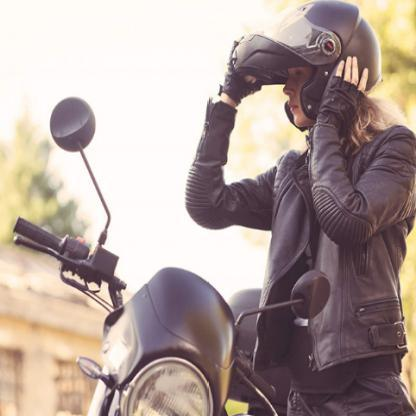helmet: (232, 0, 383, 126)
